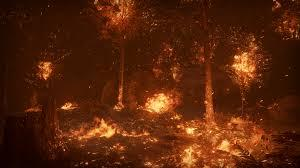fire: (177, 113, 271, 168), (68, 116, 157, 145), (223, 41, 266, 90), (136, 88, 182, 122), (91, 0, 131, 26), (35, 60, 52, 81), (57, 101, 78, 113)
